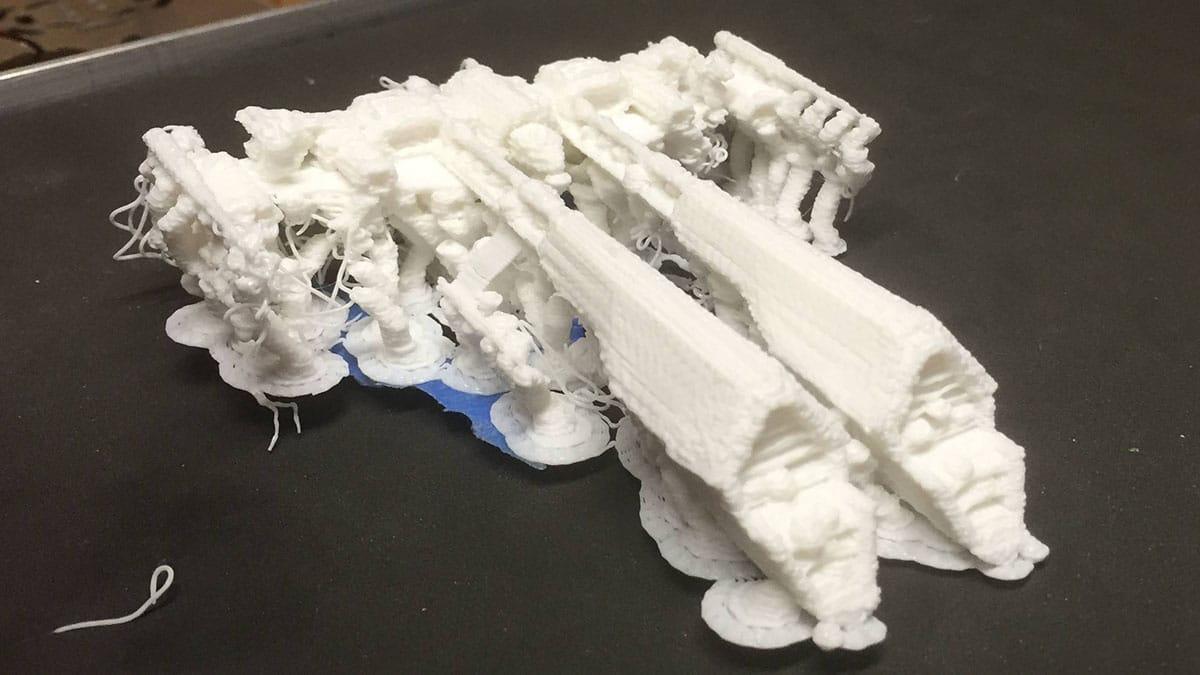Stringing or Oozing: (104, 40, 905, 405), (946, 444, 1053, 586)
